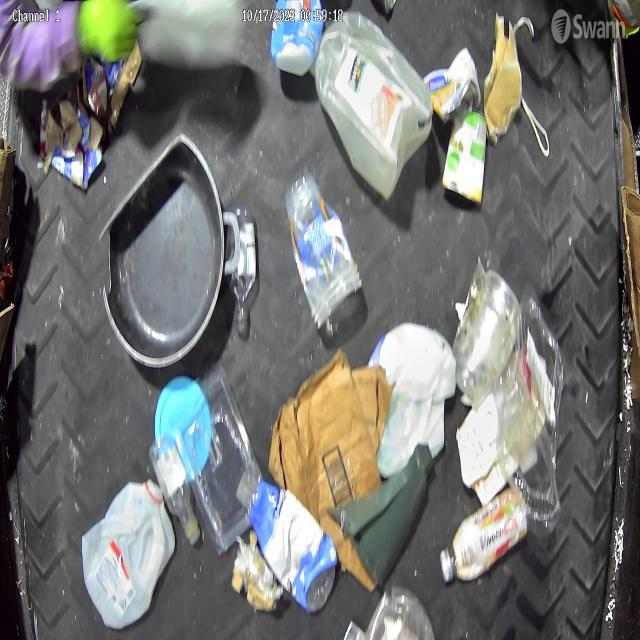can: (442, 108, 488, 206), (425, 47, 480, 125)
milk_jug: (316, 13, 434, 198), (81, 472, 178, 634), (374, 323, 456, 478)
plastic_bottle: (148, 432, 200, 547), (224, 209, 260, 337)
